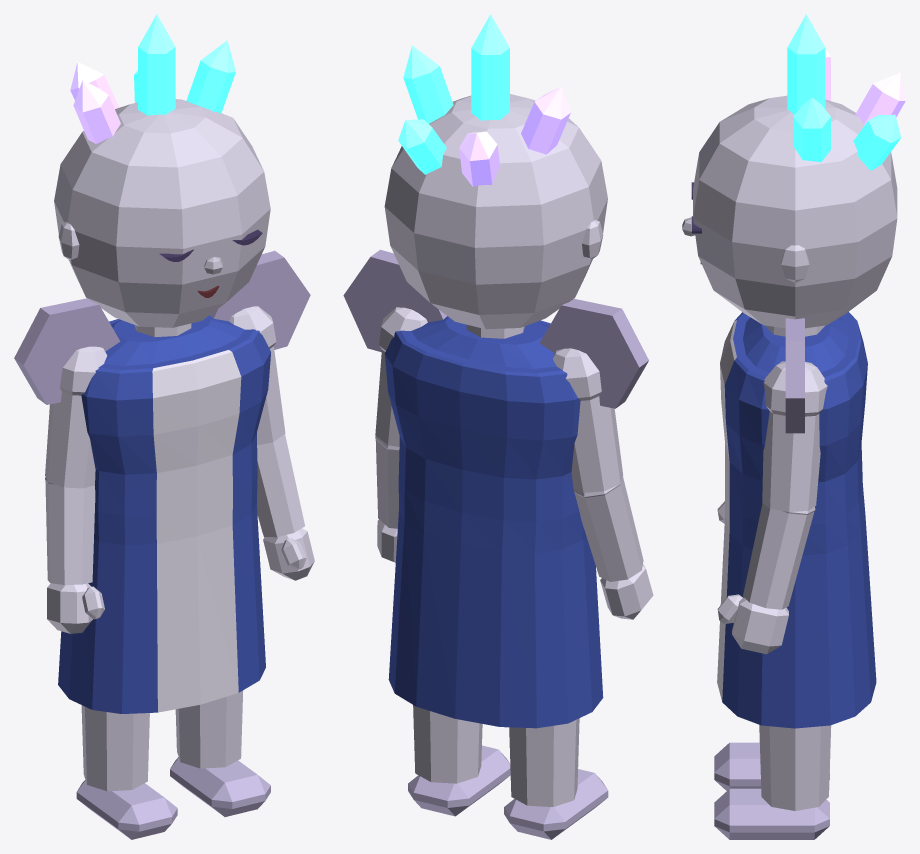
Rendered from pri-k3.glb.
3 renders of one model, left to right at view 1: azimuth 30°, elevation 25°; view 2: azimuth 150°, elevation 25°; view 3: azimuth 270°, elevation 25°, orthographic. The views are drawn at different scales.
Parts seen in each view (by area): view 1: mantel, kopf, schulterpaneele, arm_r, kristallaufsatz, arm_l, bein_r, bein_l, torso, schuh_r, schuh_l, hand_r (+2 smaller); view 2: mantel, kopf, kristallaufsatz, schulterpaneele, arm_r, bein_r, bein_l, torso, arm_l, schuh_r, schuh_l, hand_r (+1 smaller); view 3: mantel, kopf, arm_l, kristallaufsatz, bein_l, schuh_l, torso, hand_l, schulterpaneele, schuh_r.
Part boxes in pixels (left/top/right/bottom): mantel: left=58, top=319, right=270, bottom=713; kopf: left=54, top=99, right=270, bottom=327; schulterpaneele: left=14, top=250, right=310, bottom=404; arm_r: left=45, top=346, right=107, bottom=584; kristallaufsatz: left=70, top=14, right=235, bottom=143; arm_l: left=229, top=306, right=304, bottom=537; bein_r: left=81, top=705, right=149, bottom=791; bein_l: left=175, top=690, right=243, bottom=768; torso: left=104, top=315, right=244, bottom=365; schuh_r: left=76, top=780, right=177, bottom=839; schuh_l: left=170, top=757, right=270, bottom=816; hand_r: left=47, top=583, right=104, bottom=633; mantel: left=384, top=320, right=603, bottom=728; kopf: left=384, top=94, right=607, bottom=329; kristallaufsatz: left=398, top=14, right=570, bottom=187; schulterpaneele: left=343, top=249, right=648, bottom=408; arm_r: left=553, top=348, right=643, bottom=581; bein_r: left=509, top=718, right=579, bottom=806; bein_l: left=413, top=705, right=482, bottom=783; torso: left=411, top=316, right=556, bottom=368; arm_l: left=375, top=307, right=427, bottom=528; schuh_r: left=504, top=769, right=608, bottom=839; schuh_l: left=408, top=745, right=510, bottom=816; hand_r: left=600, top=564, right=653, bottom=619; mantel: left=717, top=312, right=876, bottom=728; kopf: left=693, top=95, right=897, bottom=328; arm_l: left=743, top=361, right=827, bottom=609; kristallaufsatz: left=787, top=14, right=905, bottom=170; bein_l: left=759, top=725, right=831, bottom=810; schuh_l: left=714, top=788, right=829, bottom=839; torso: left=743, top=317, right=848, bottom=372; hand_l: left=717, top=594, right=788, bottom=654; schulterpaneele: left=785, top=318, right=804, bottom=433; schuh_r: left=714, top=742, right=829, bottom=790.
Size of the model in its own units: 0.0107 by 0.0278 by 0.00709.
